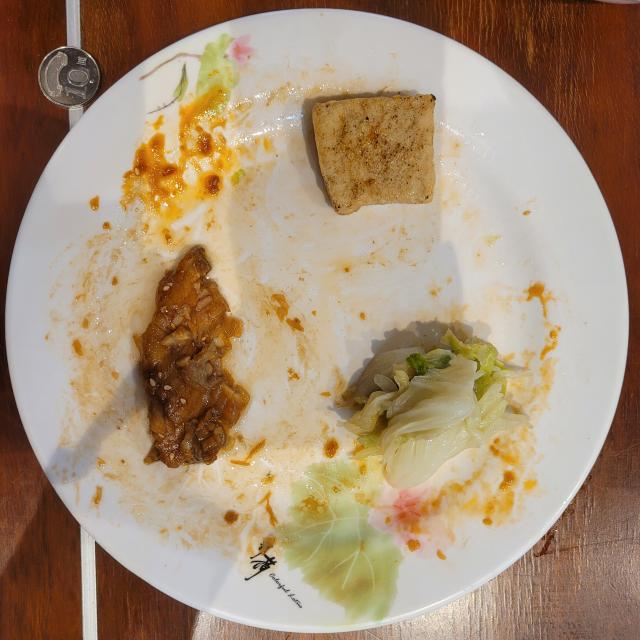Kabayaki sea bream fillet: (135, 246, 250, 468)
cabbage: (339, 330, 531, 489)
coin: (38, 46, 100, 108)
creamy tofu -without sauce-: (312, 95, 435, 215)
